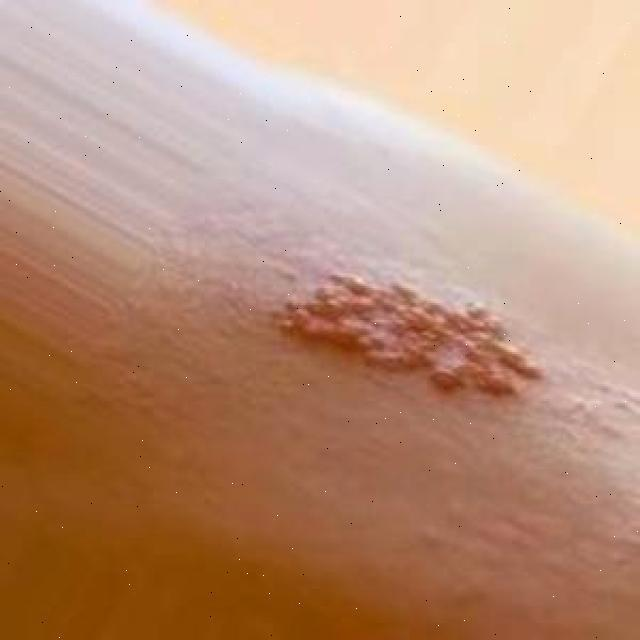Shingles: (264, 262, 550, 402)
